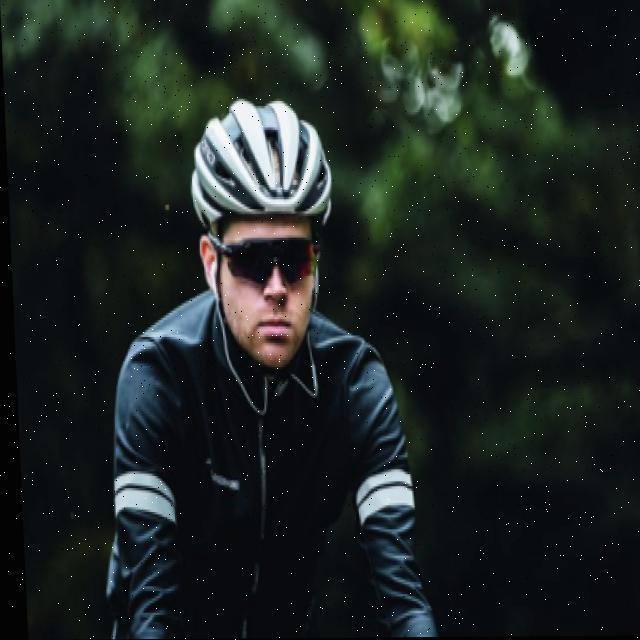Helmet: (184, 94, 339, 375)
